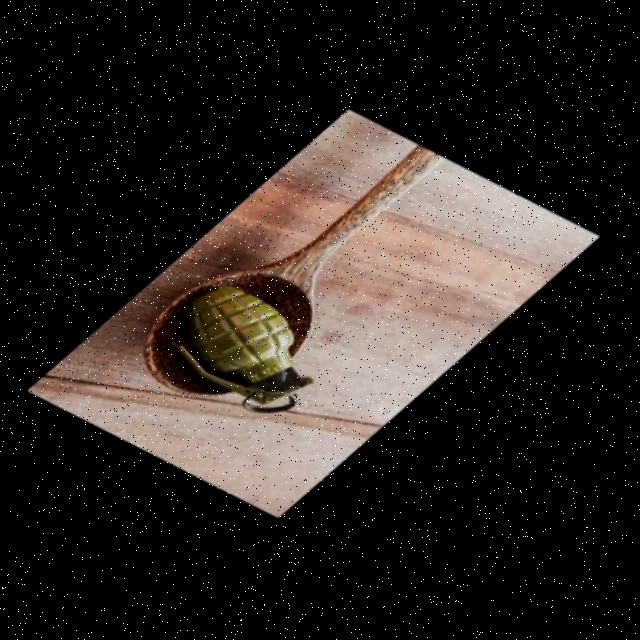grenade: (169, 271, 334, 434)
